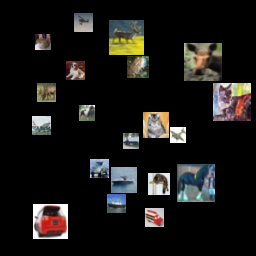airplane: (74, 13, 93, 32), (32, 116, 51, 135), (170, 127, 186, 143)
automobile: (33, 204, 68, 239), (90, 159, 109, 178)
cat: (213, 83, 251, 121), (143, 112, 169, 138), (148, 173, 170, 195)
deer: (184, 43, 222, 81), (109, 20, 144, 55), (37, 83, 56, 102)
dog: (66, 61, 85, 80)
frog: (127, 56, 149, 78), (35, 34, 51, 50)
ship: (111, 167, 137, 193), (107, 194, 126, 213)
